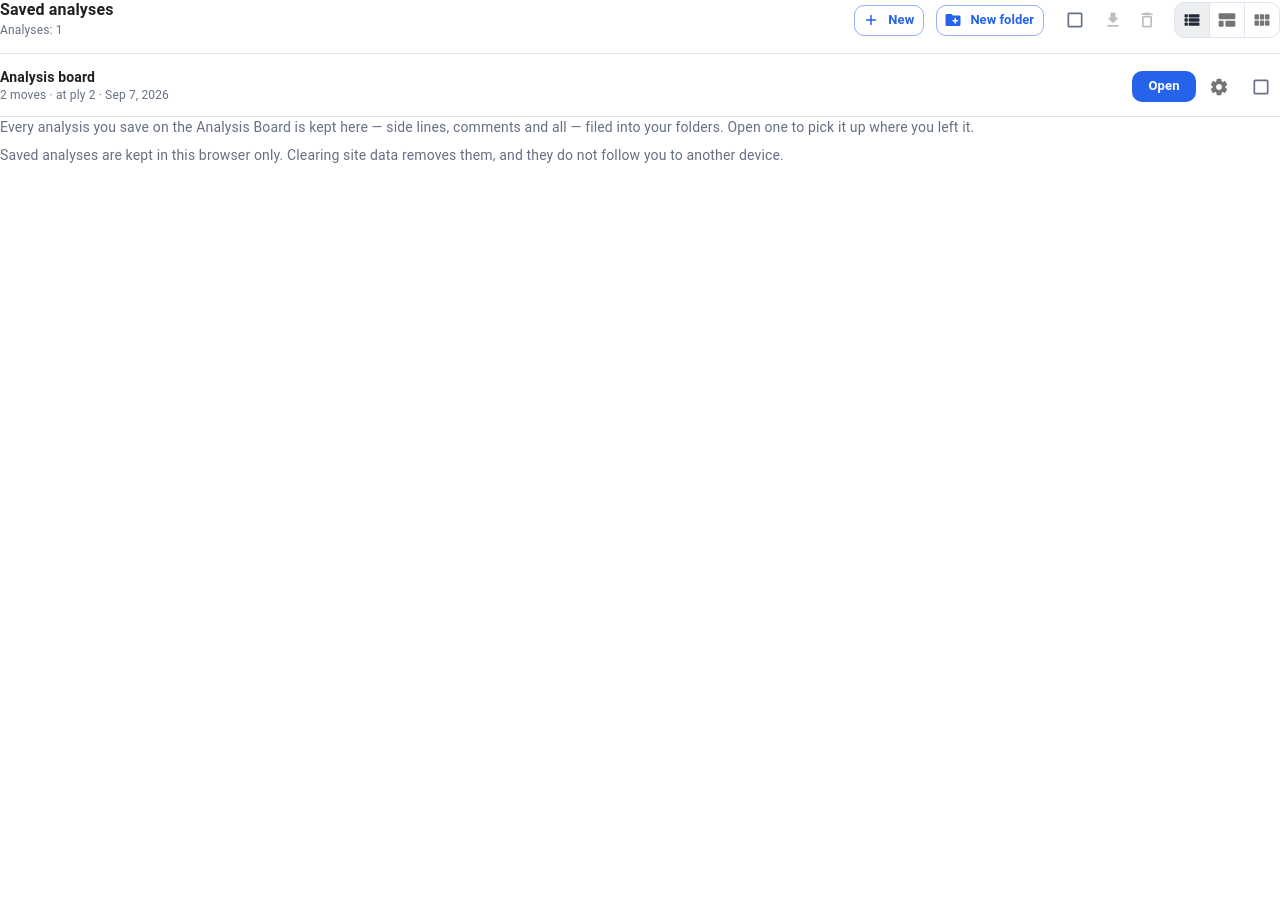
Saved analyses — where a row goes › deletes the picks in bulk, after asking, and the list follows
Expected: the element with test id "saved-analyses-screen" is shown, x1=0 y1=0 x2=1279 y2=117
Click the checkbox named "Select this analysis" at (1261, 87), box x1=1251 y1=77 x2=1271 y2=97
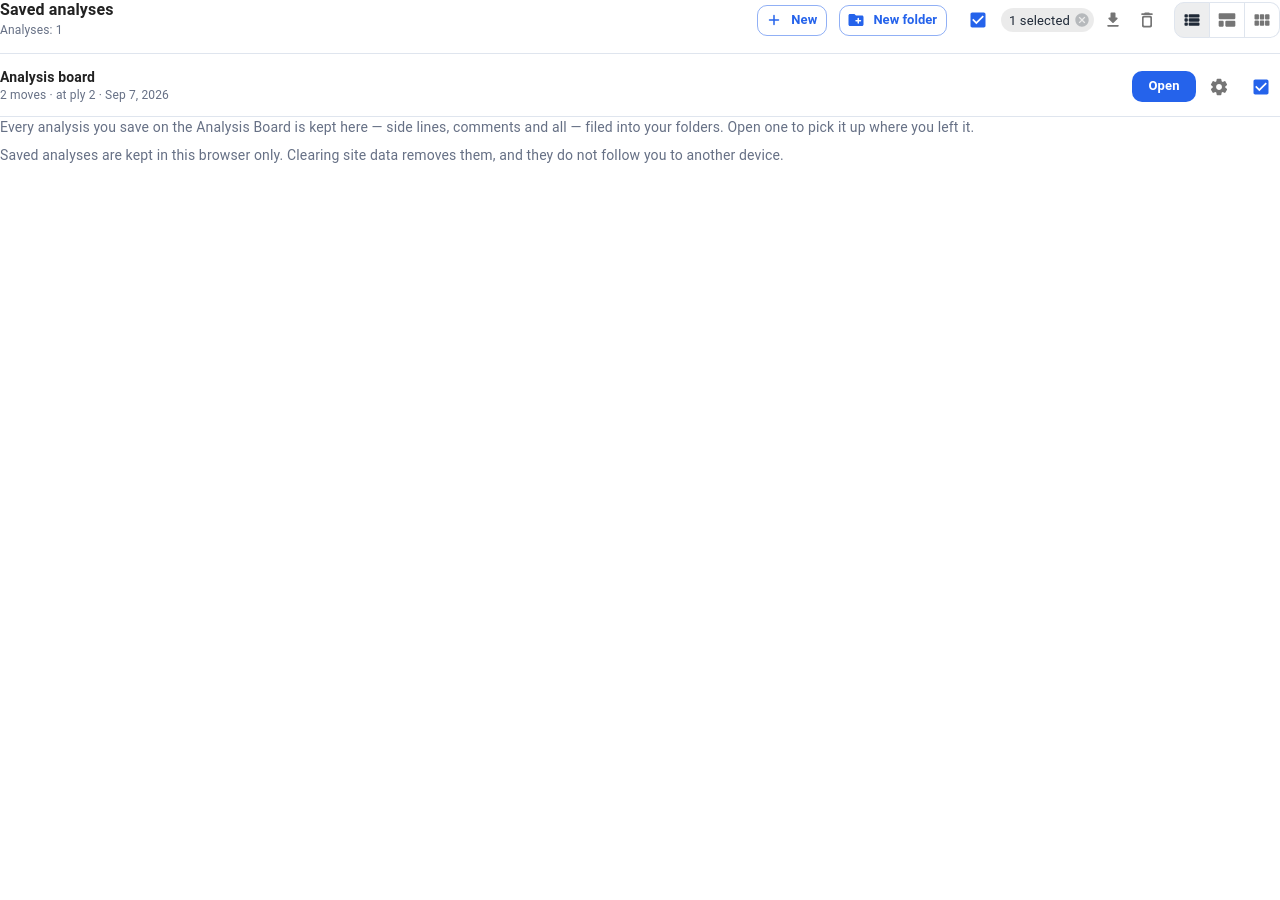
Click the button with test id "saved-analyses-delete" at (1147, 20), box x1=1132 y1=5 x2=1162 y2=35
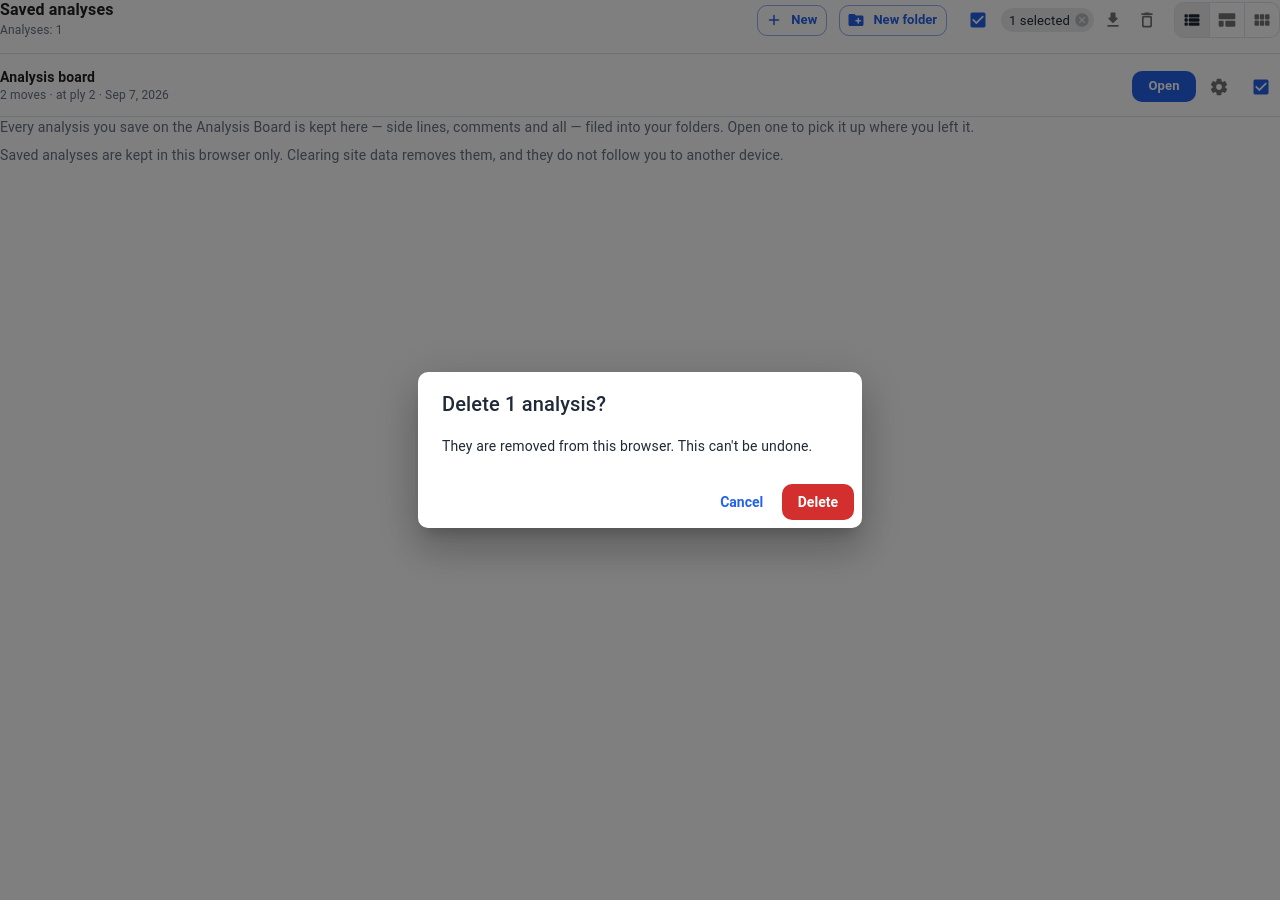
Now the heading with test id "saved-analyses-delete-title" reads "Delete 1 analysis?", box x1=442 y1=392 x2=606 y2=416
Click the button with test id "saved-analyses-delete-confirm" at (818, 502), box x1=782 y1=484 x2=854 y2=520
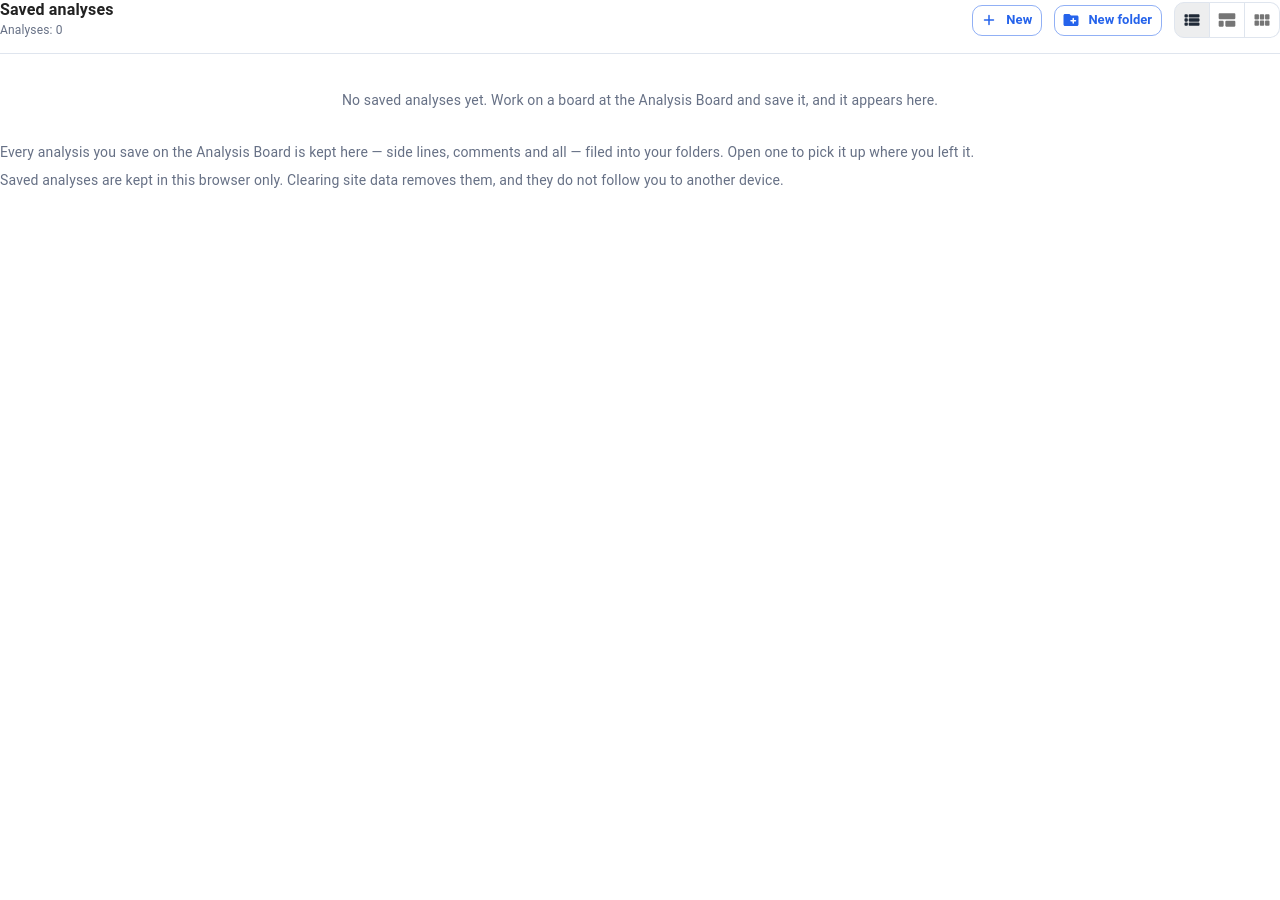
Now the list item with test id "saved-analyses-item-a1" is gone
Now the text with test id "saved-analyses-empty" is shown, box x1=342 y1=92 x2=938 y2=108
